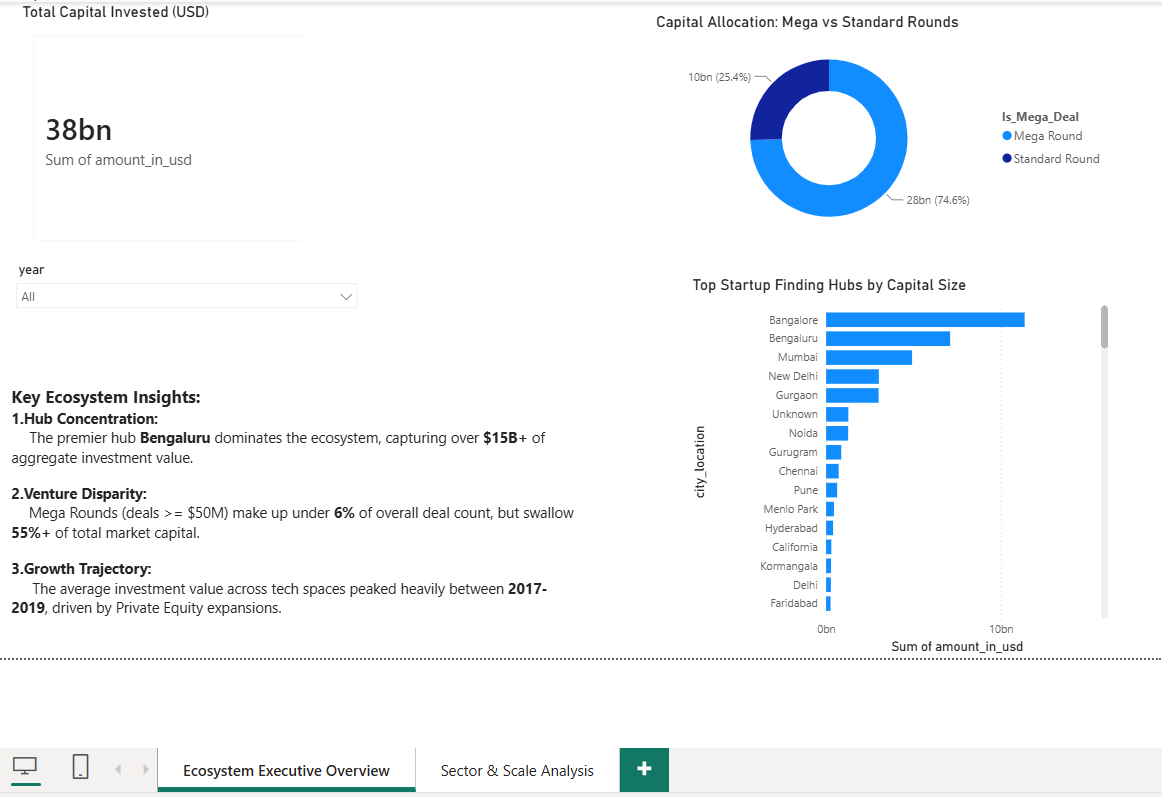

The dashboard page shown, as its layout file describes it:
{"tool":"powerbi","page":{"name":"Ecosystem Executive Overview","canvas":[1280,720],"ordinal":0},"visuals":[{"type":"cardVisual","title":"Total Capital Invested (USD)","fields":{"Data":["Sum(cleaned_dataset (2).amount_in_usd)"]},"box":[9.6,0,334.8,279.9],"z":0},{"type":"slicer","fields":{"Values":["cleaned_dataset (2).year"]},"box":[22,279.9,395.2,134.5],"z":1000},{"type":"donutChart","title":"Capital Allocation: Mega vs Standard Rounds","fields":{"Category":["cleaned_dataset (2).Is_Mega_Deal"],"Y":["Sum(cleaned_dataset (2).amount_in_usd)"]},"box":[717.7,11,506.3,258],"z":2000},{"type":"barChart","title":"Top Startup Finding Hubs by Capital Size","fields":{"Category":["cleaned_dataset (2).city_location"],"Y":["Sum(cleaned_dataset (2).amount_in_usd)"]},"box":[757.5,300.5,466.6,419.9],"z":3000},{"type":"textbox","box":[9.6,415.8,629.8,304.6],"z":4000}]}

Visuals, with their boxes on the page's 1280x720 design canvas (x1, y1, x2, y2). These are canvas units, not pixel positions in the 1162x797 screenshot, which may show the page scaled, cropped or inside an application window:
"Total Capital Invested (USD)" cardVisual: box=[10, 0, 344, 280]
slicer - cleaned_dataset (2).year: box=[22, 280, 417, 414]
"Capital Allocation: Mega vs Standard Rounds" donutChart: box=[718, 11, 1224, 269]
"Top Startup Finding Hubs by Capital Size" barChart: box=[758, 300, 1224, 720]
textbox: box=[10, 416, 639, 720]
